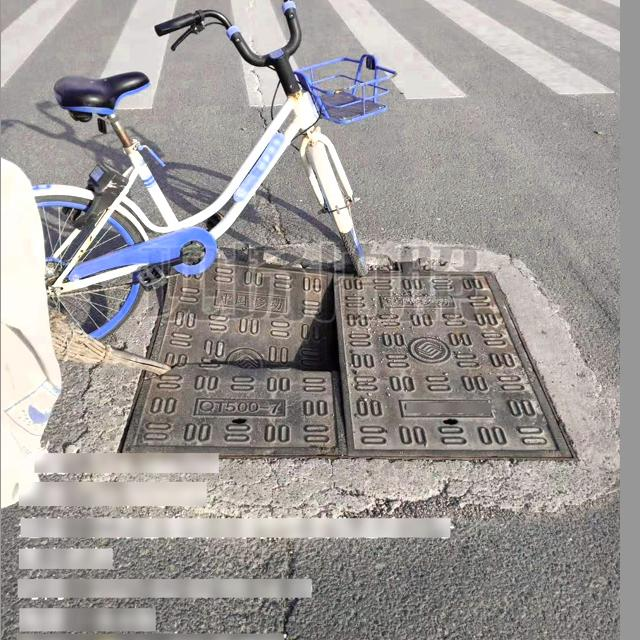broke: (113, 253, 579, 462)
